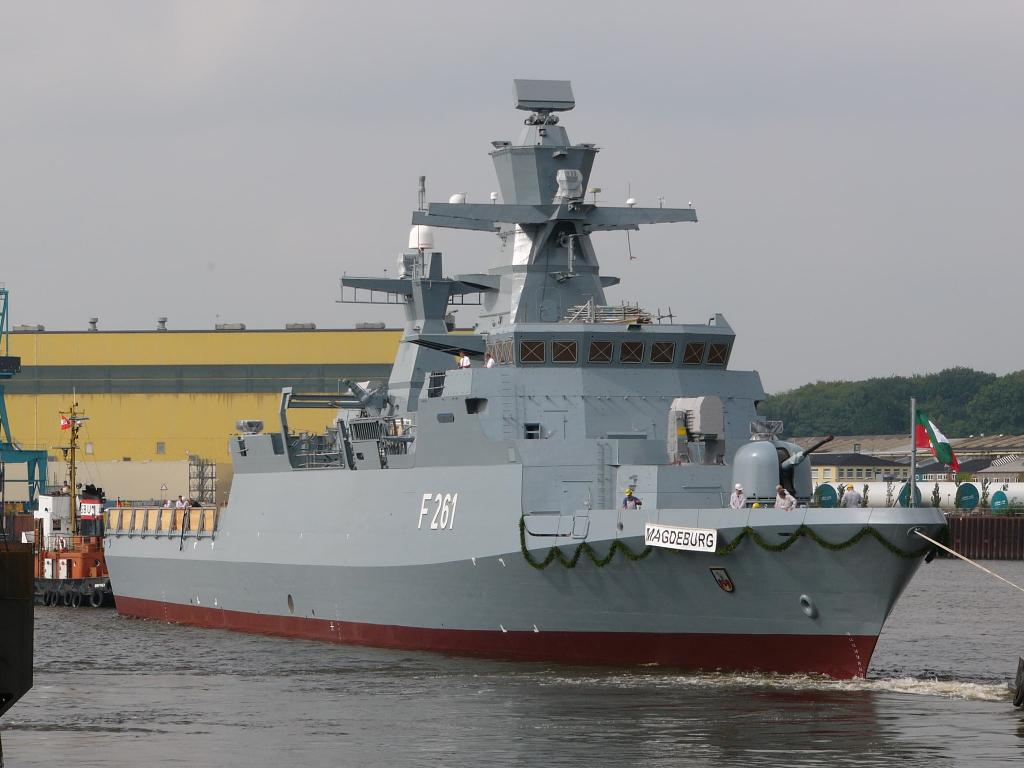Warship: (102, 60, 946, 684)
